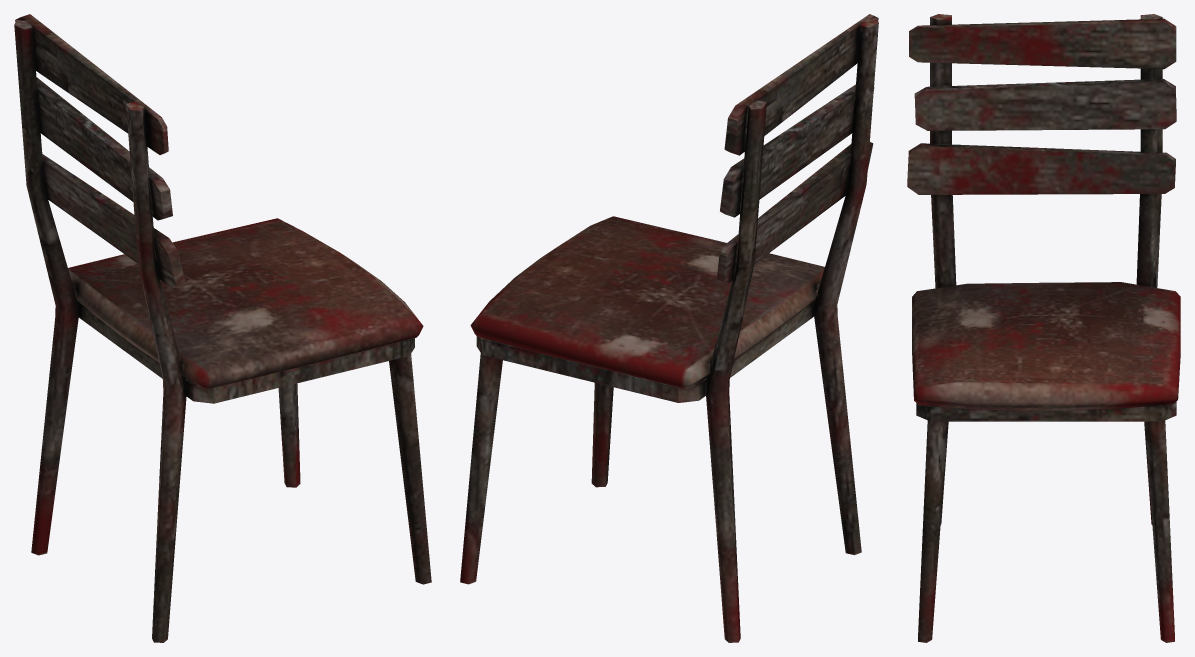
The model's file is OldWoodenChair.FBX.
The picture shows the model from 3 angles, left to right: view 1: azimuth 30°, elevation 25°; view 2: azimuth 150°, elevation 25°; view 3: azimuth 270°, elevation 25°; orthographic projection. The views are drawn at different scales.
Parts seen in each view (by area): view 1: OldWoodenChair; view 2: OldWoodenChair; view 3: OldWoodenChair.
Part boxes in pixels (box(x1,y1,x2,y2)): OldWoodenChair: box(14, 14, 431, 642); OldWoodenChair: box(460, 14, 878, 642); OldWoodenChair: box(907, 14, 1180, 642).
Bounding box in the file's own units: 64.03 × 112 × 55.55.
